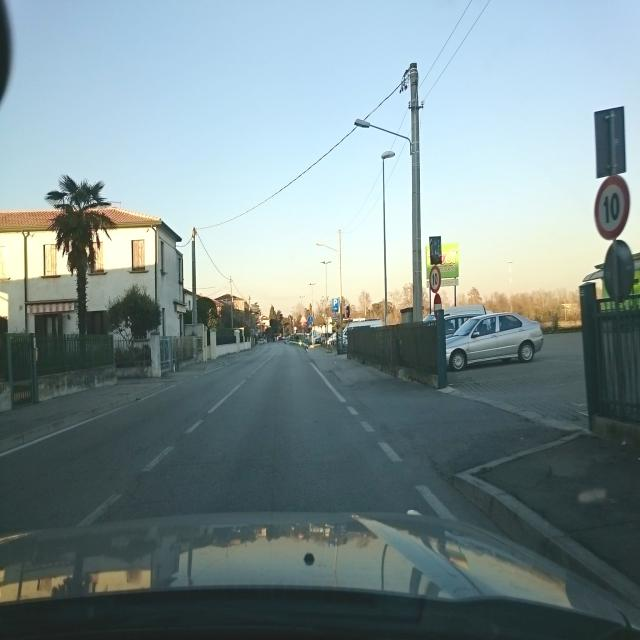car: (444, 312, 545, 372)
